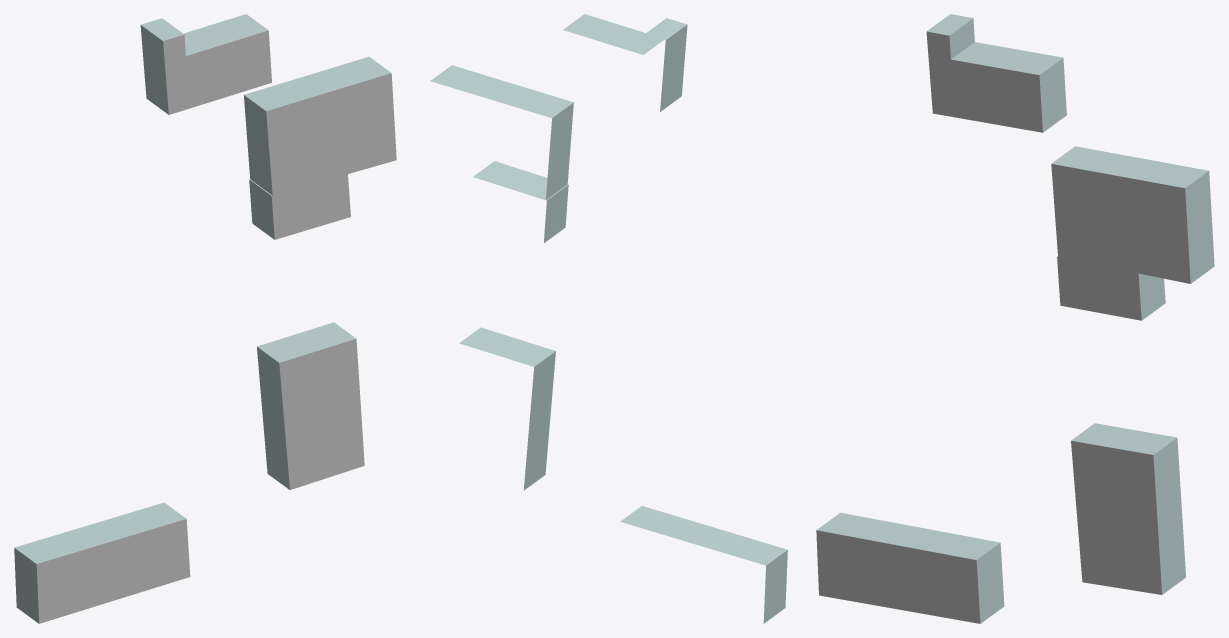
3 views of the same model, side by side, from view 1: azimuth 30°, elevation 25°; view 2: azimuth 150°, elevation 25°; view 3: azimuth 330°, elevation 25° (orthographic). The views are drawn at different scales.
Parts seen in each view (by area): view 1: 0_1_2_1_3_1_1_3_3; view 2: 0_1_2_1_3_1_1_3_3; view 3: 0_1_2_1_3_1_1_3_3.
Part boxes in pixels (bbox=[...]): 0_1_2_1_3_1_1_3_3: bbox=[14, 14, 396, 623]; 0_1_2_1_3_1_1_3_3: bbox=[430, 14, 787, 623]; 0_1_2_1_3_1_1_3_3: bbox=[816, 14, 1214, 623].
Bounding box in the file's own units: 27.41 × 41.66 × 4.55.
